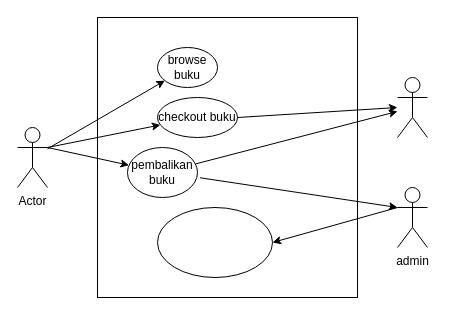
This 460x315 diagram has some shape labels left out. Each missing label, with the centre of its shape:
"Pengadaan" goes at [412,107].
"update katalog" goes at [214,242].
